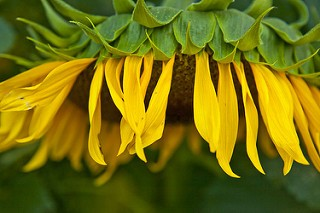flower: (1, 25, 320, 192)
